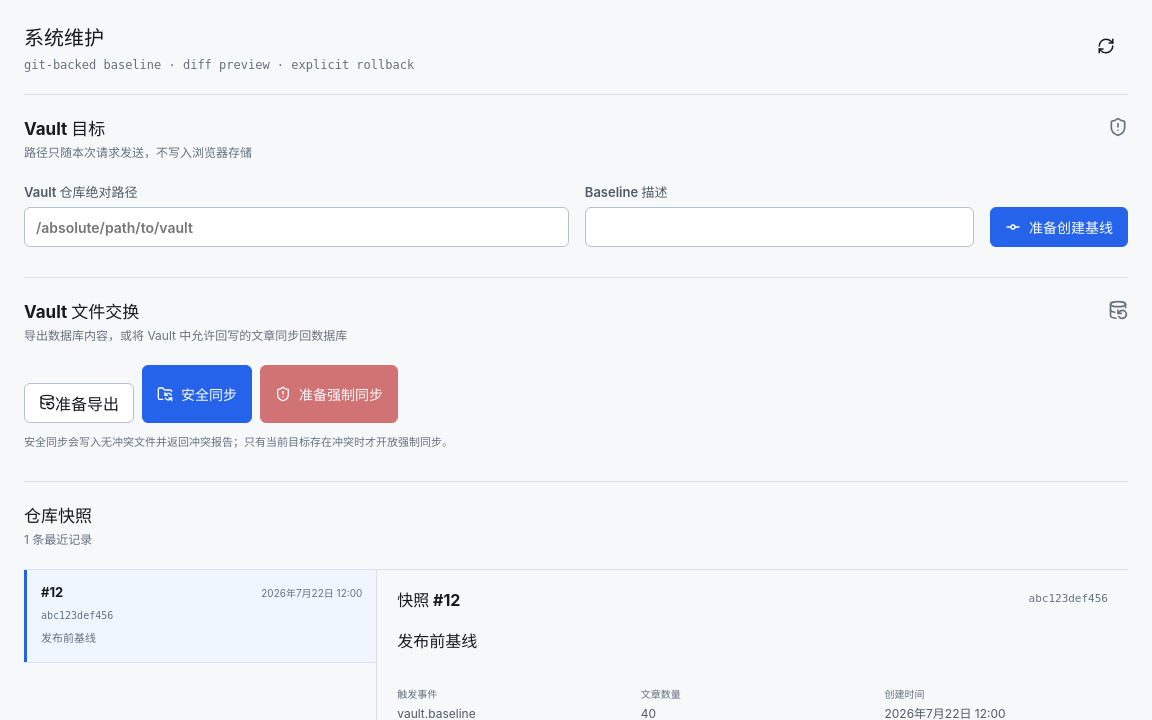
repository maintenance page › confirms baseline creation and reports exported file counts
The width and height of the screenshot is (1152, 720).
In the field labelled "Vault 仓库绝对路径": x=296, y=227 [24,207,569,247], type "/tmp/lattice-vault"
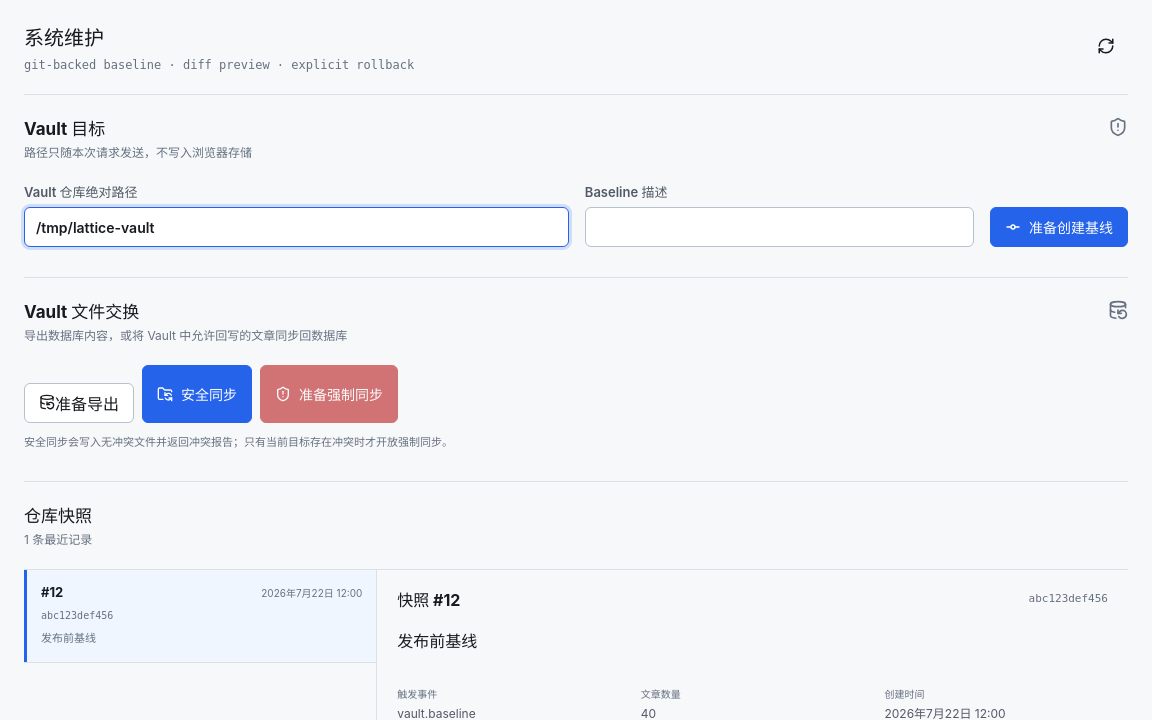
In the field labelled "Baseline 描述": x=779, y=227 [585,207,974,247], type "发布前基线"
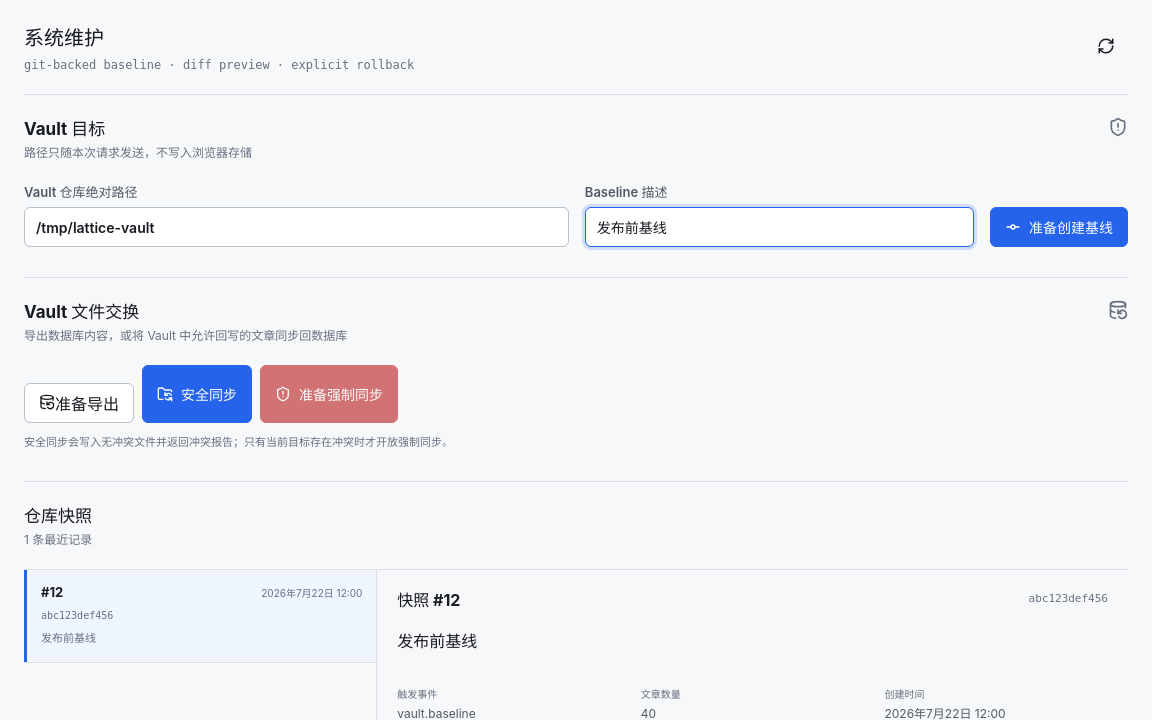
Click the button "准备创建基线": x=1059, y=227 [990,207,1128,247]
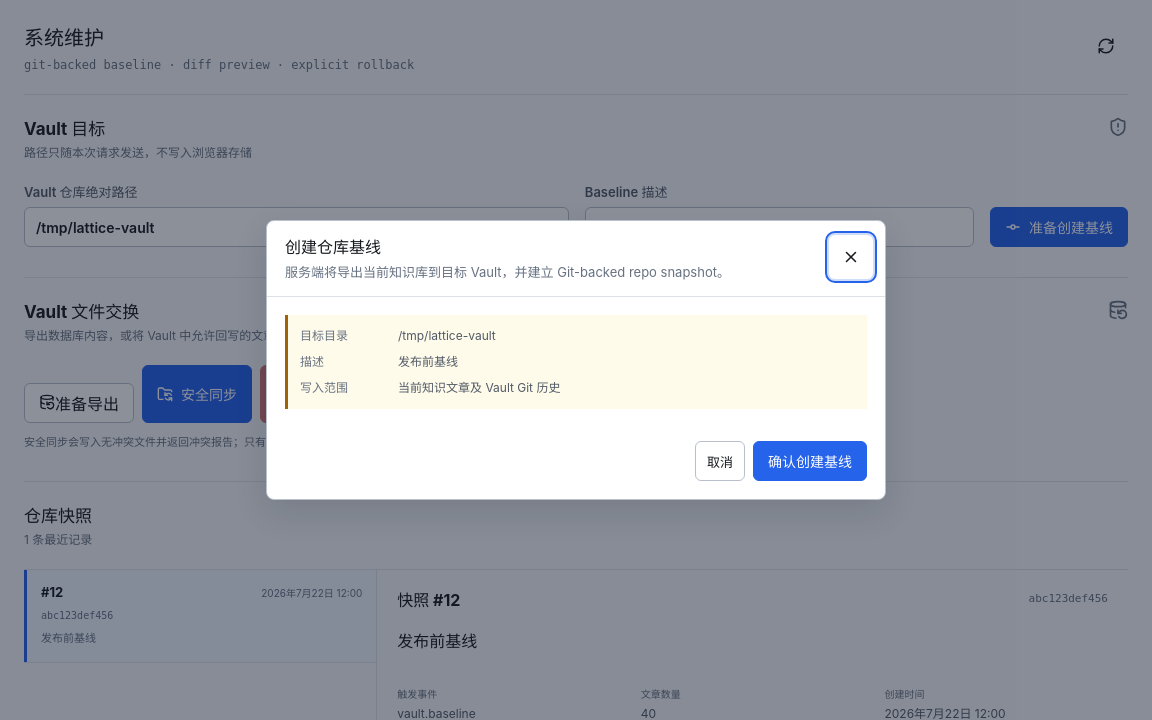
Result: the text "/tmp/lattice-vault" is shown at [398,328,496,343]
Click the button "确认创建基线": x=810, y=461 [753,441,867,481]
(page scrolled)
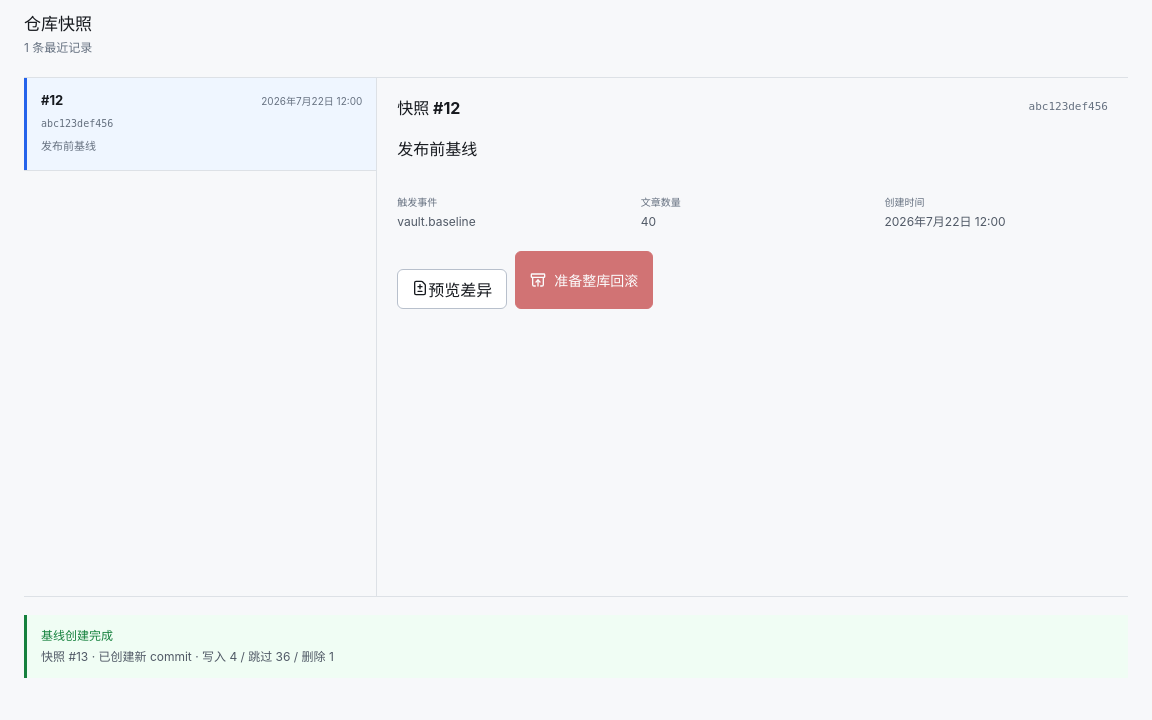
Result: the text "基线创建完成" is shown at [41,628,113,643]
Result: the text "快照 #13 · 已创建新 commit · 写入 4 / 跳过 36 / 删除 1" is shown at [41,649,334,664]
